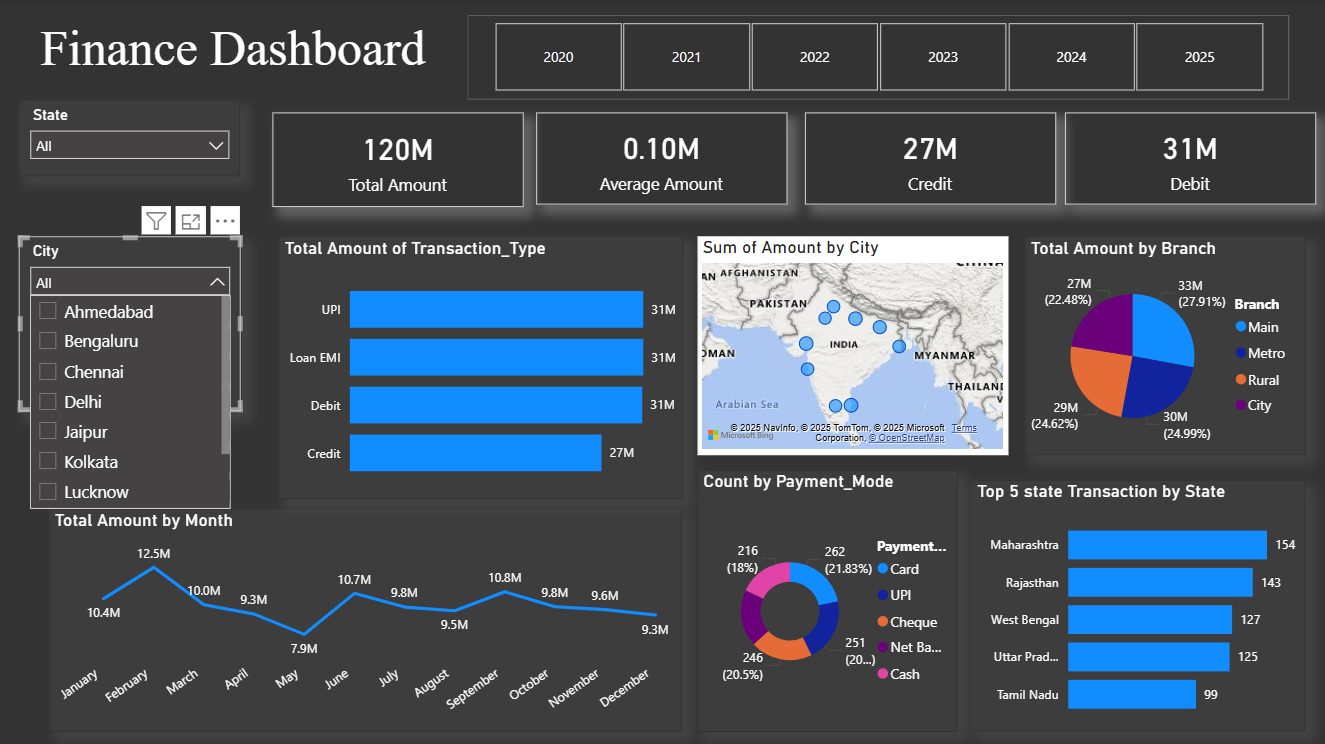

The dashboard page shown, as its layout file describes it:
{"tool":"powerbi","page":{"name":"Page 1","canvas":[1280,720],"ordinal":0},"visuals":[{"type":"card","fields":{"Values":["Sum(Sheet1.Amount)"]},"box":[262.8,109,242.3,91],"z":0},{"type":"card","fields":{"Values":["Sheet1.Credit"]},"box":[776.9,109,242.3,88.5],"z":1000},{"type":"card","fields":{"Values":["Sheet1.Debited"]},"box":[1028.2,109,242.3,88.5],"z":2000},{"type":"card","fields":{"Values":["Avg(Sheet1.Amount)"]},"box":[517.9,109,242.3,88.5],"z":3000},{"type":"map","fields":{"Category":["Sheet1.City"],"Size":["Sum(Sheet1.Amount)"]},"box":[673.8,227.5,300,211.2],"z":4000},{"type":"pieChart","fields":{"Category":["Sheet1.Branch"],"Y":["Sum(Sheet1.Amount)"]},"box":[988.8,227.5,271.2,211.2],"z":5000},{"type":"lineChart","fields":{"Category":["Sheet1.Date_Time.Variation.Date Hierarchy.Month"],"Y":["Sum(Sheet1.Amount)"]},"box":[47.5,491.2,611.2,215],"z":6000},{"type":"clusteredBarChart","title":"Total Amount of Transaction_Type","fields":{"Category":["Sheet1.Transaction_Type"],"Y":["Sum(Sheet1.Amount)"]},"box":[269.4,227.4,390.3,253.2],"z":7000},{"type":"textbox","box":[33.8,15,391.2,67.5],"z":8000},{"type":"clusteredBarChart","fields":{"Category":["Sheet1.State"],"Y":["CountNonNull(Sheet1.Transaction_ID)"]},"box":[937.5,463.8,322.5,242.5],"z":9000},{"type":"donutChart","fields":{"Category":["Sheet1.Payment_Mode"],"Y":["CountNonNull(Sheet1.Transaction_ID)"]},"box":[673.8,453.8,251.2,252.5],"z":10000},{"type":"slicer","fields":{"Values":["Sheet1.Date_Time.Variation.Date Hierarchy.Year"]},"box":[451.2,15,792.5,81.2],"z":11000},{"type":"slicer","fields":{"Values":["Sheet1.State"]},"box":[17.5,96.2,213.8,73.8],"z":12000},{"type":"slicer","fields":{"Values":["Sheet1.City"]},"box":[17.5,227.5,215,170],"z":13000}]}

Visuals, with their boxes in screenshot pixels (x1, y1, x2, y2), scaled from the page's 1280x720 canvas onto the 1325x744 screenshot:
card - Sum(Sheet1.Amount): bbox=(272, 113, 523, 207)
card - Sheet1.Credit: bbox=(804, 113, 1055, 204)
card - Sheet1.Debited: bbox=(1064, 113, 1315, 204)
card - Avg(Sheet1.Amount): bbox=(536, 113, 787, 204)
map - Sheet1.City x Sum(Sheet1.Amount): bbox=(697, 235, 1008, 453)
pieChart - Sheet1.Branch x Sum(Sheet1.Amount): bbox=(1024, 235, 1304, 453)
lineChart - Sheet1.Date_Time.Variation.Date Hierarchy.Month x Sum(Sheet1.Amount): bbox=(49, 508, 682, 730)
"Total Amount of Transaction_Type" clusteredBarChart: bbox=(279, 235, 683, 497)
textbox: bbox=(35, 16, 440, 85)
clusteredBarChart - Sheet1.State x CountNonNull(Sheet1.Transaction_ID): bbox=(970, 479, 1304, 730)
donutChart - Sheet1.Payment_Mode x CountNonNull(Sheet1.Transaction_ID): bbox=(697, 469, 958, 730)
slicer - Sheet1.Date_Time.Variation.Date Hierarchy.Year: bbox=(467, 16, 1287, 99)
slicer - Sheet1.State: bbox=(18, 99, 239, 176)
slicer - Sheet1.City: bbox=(18, 235, 241, 411)
